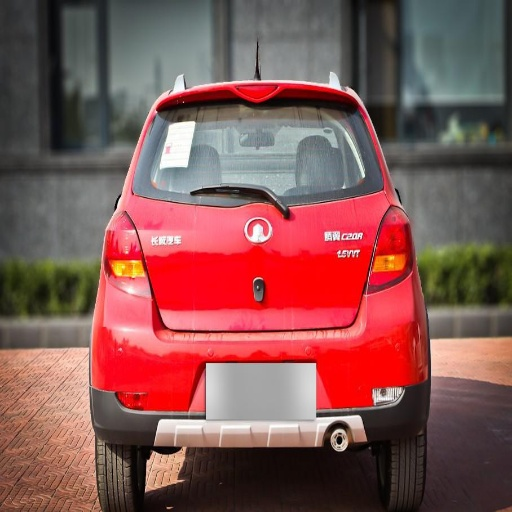back_bumper: (93, 273, 430, 448)
trunk: (130, 177, 389, 332)
